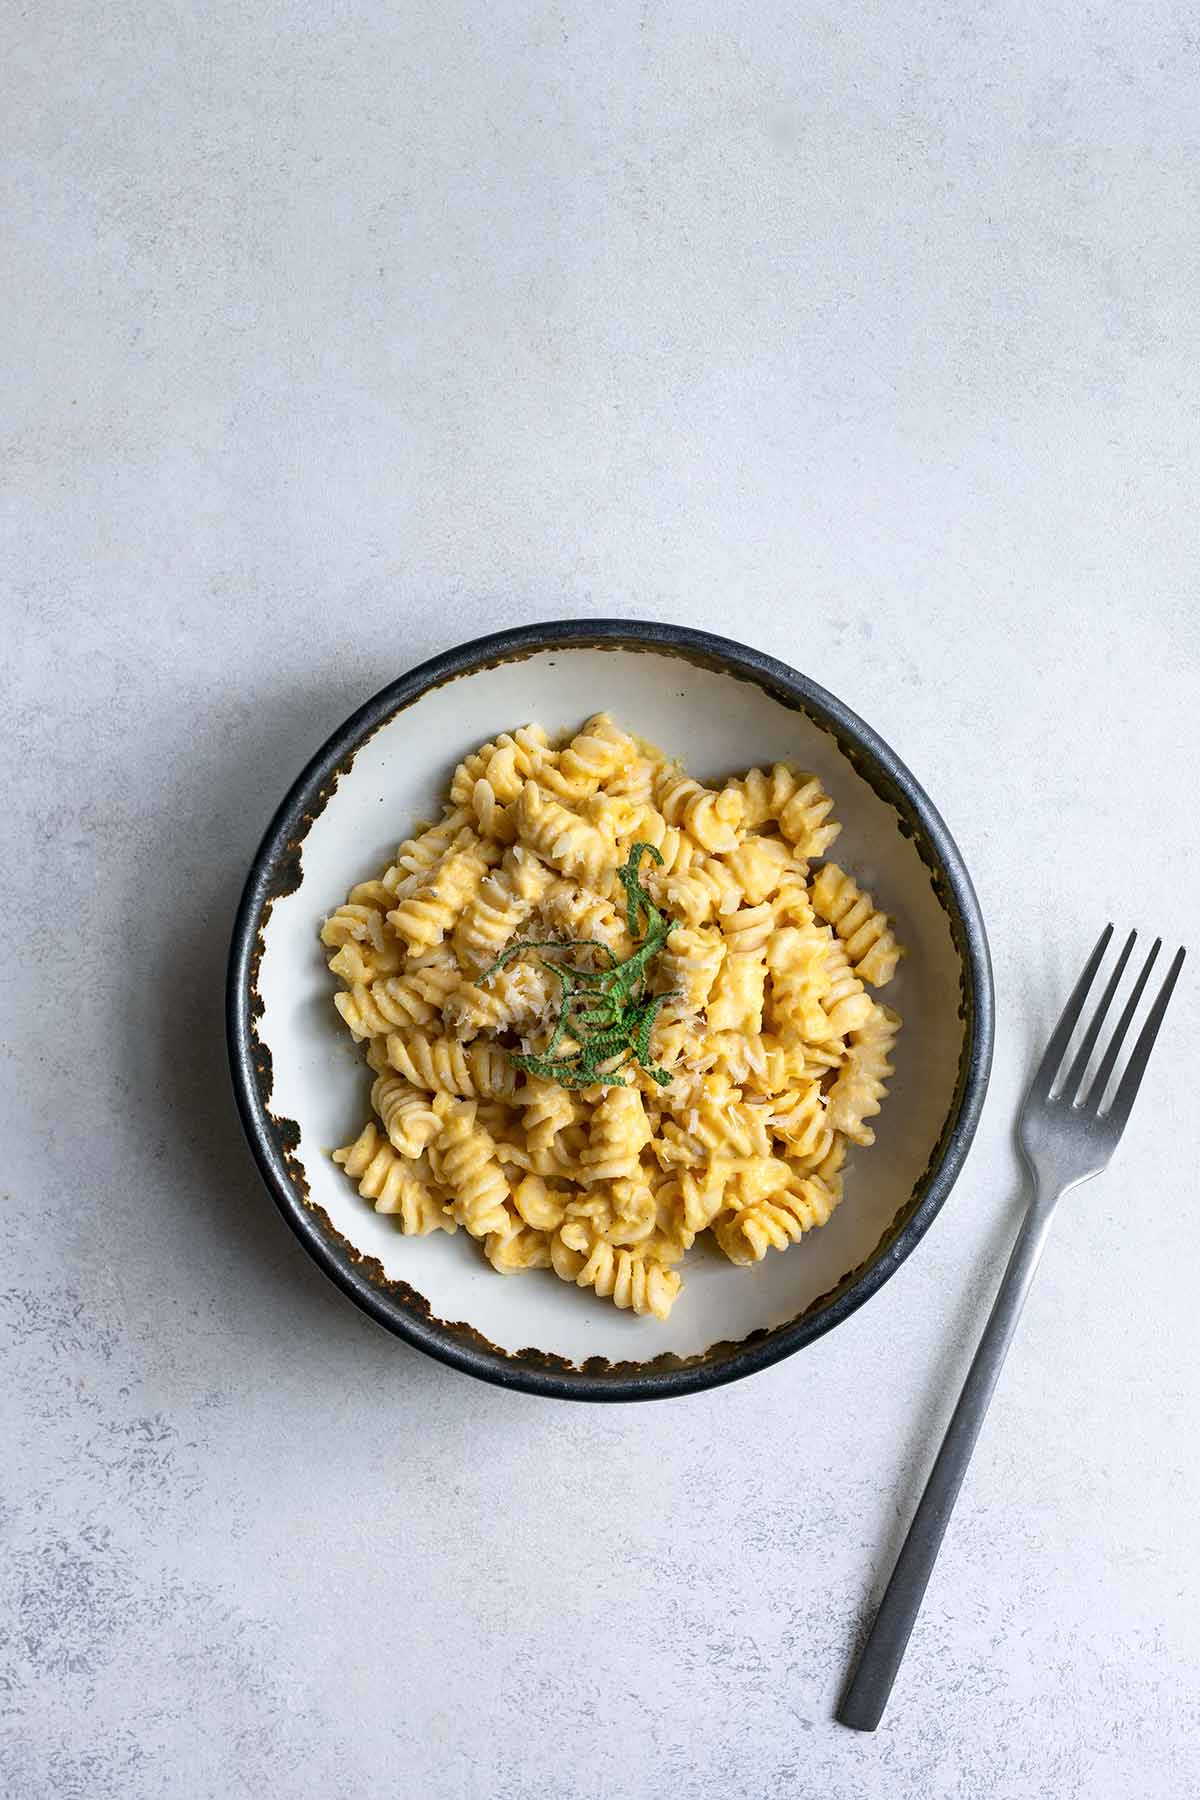plain spaghetti: (329, 742, 875, 1288)
